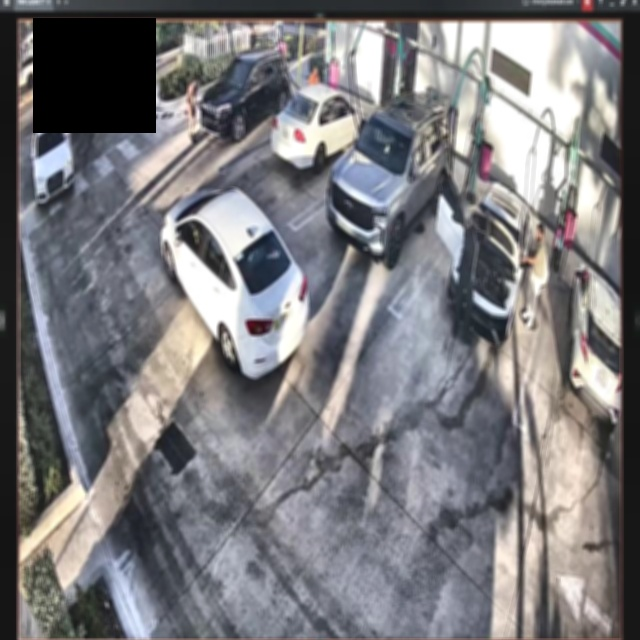Car: (161, 186, 308, 382), (330, 92, 453, 270), (442, 175, 533, 346), (273, 82, 371, 170)
